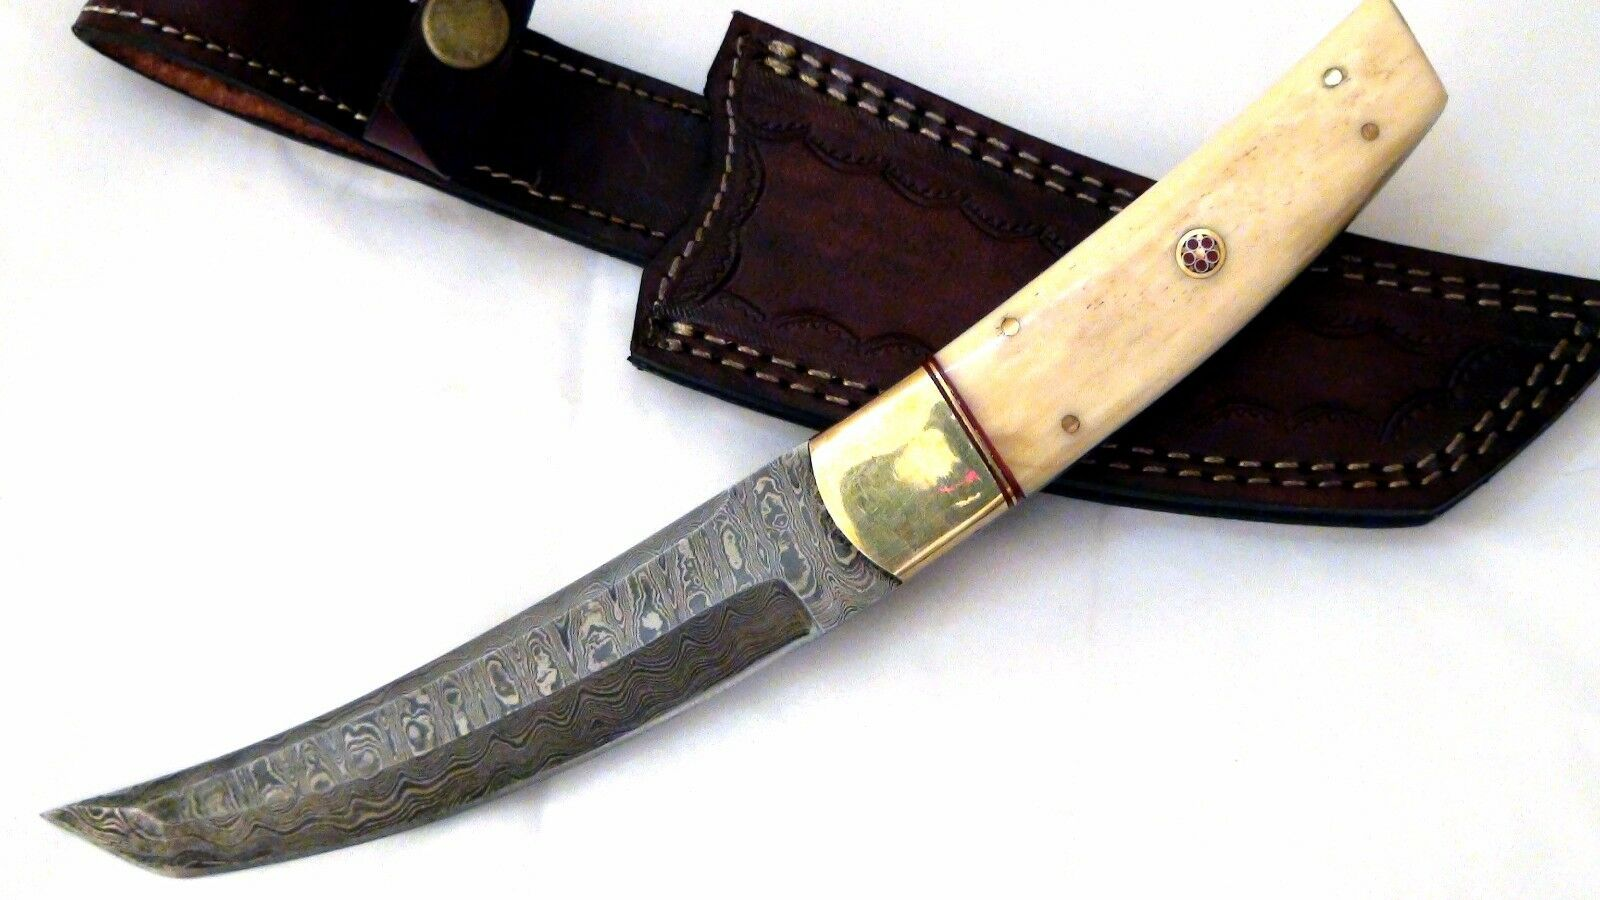knief: (99, 1, 1447, 889)
